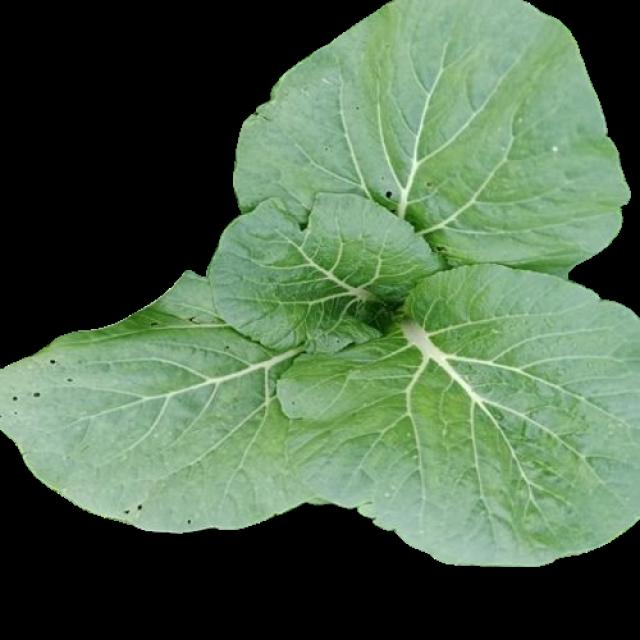mature: (2, 1, 640, 561)
unhealthy: (236, 4, 624, 276), (6, 272, 329, 532)
